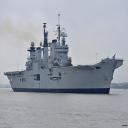Portanaves: (4, 13, 125, 94)
